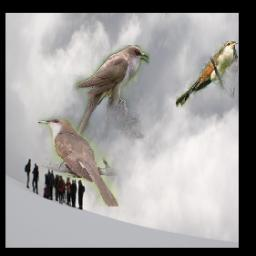Cuckoo: (67, 45, 148, 155), (38, 118, 118, 207), (176, 41, 238, 107)
